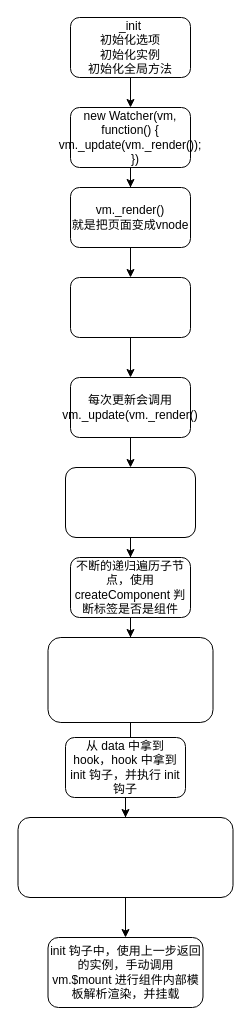
This 250x1025 diagram has some shape labels left out. The shapes that lost their labels are listed below. From the top down, each one's centre as x and y in pixels, then its label:
(x=130, y=307): _update方法对比新旧vnode，第一次直接创建dom元素挂在到真实dom中
(x=130, y=502): 父页面已经拿到了 VNode，其中会调用 createElm 根据 VNode 生成DOM，进行挂载
(x=130, y=679): 遇到组件，拿到组件外壳VNode 的data（data 保存有父组件给子组件的，事件，props，构造函数，钩子）
(x=125, y=857): init 钩子中，调用 createComponentInstanceForVnode 调用组件构造函数，并返回组件
